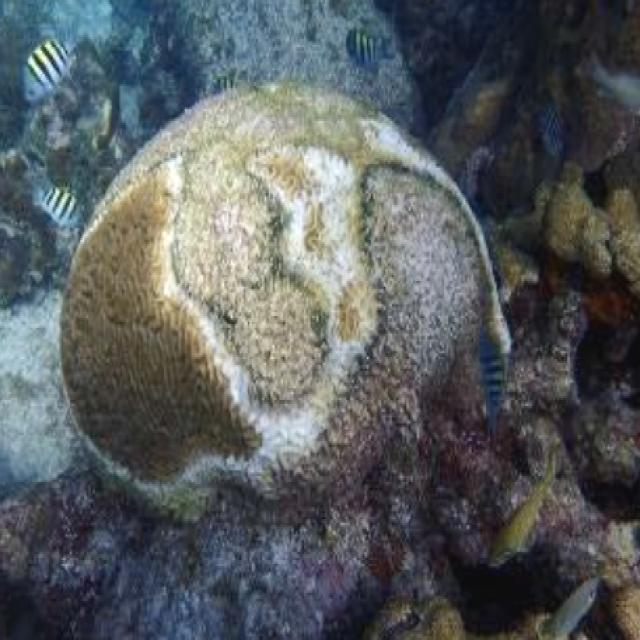Coral: (62, 77, 511, 524)
